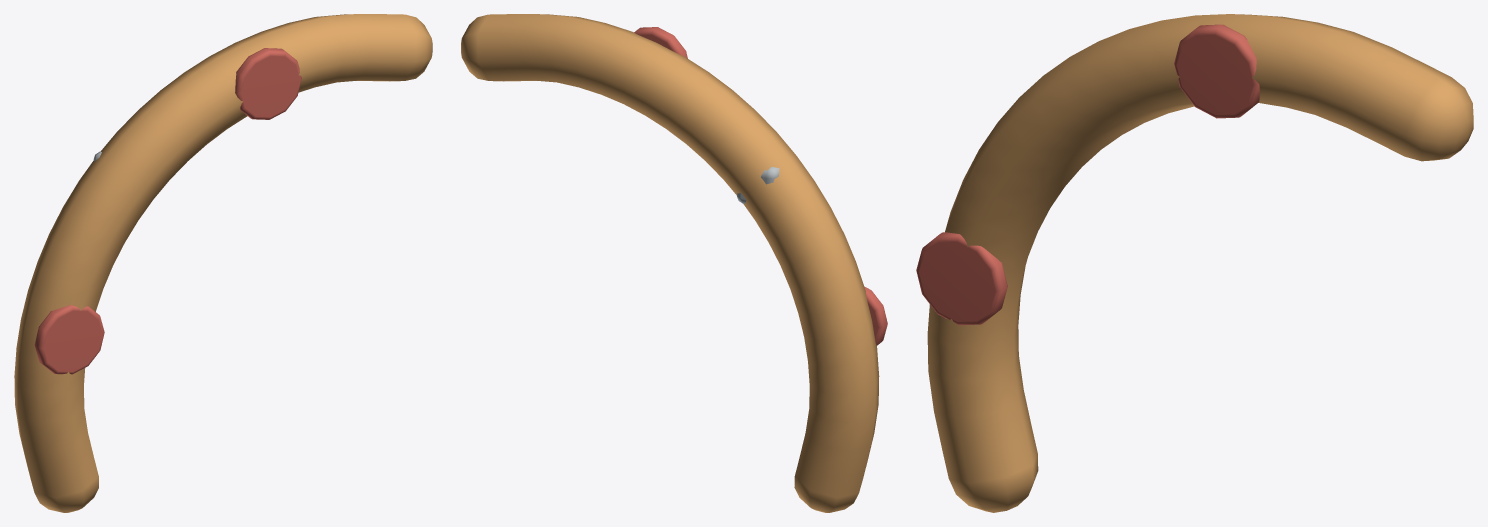
Rendered from wall_boomerang.glb.
3 renders of one model, left to right at view 1: azimuth 30°, elevation 25°; view 2: azimuth 150°, elevation 25°; view 3: azimuth 330°, elevation 25°, orthographic. The views are drawn at different scales.
Parts seen in each view (by area): view 1: wall_boomerang_mesh; view 2: wall_boomerang_mesh; view 3: wall_boomerang_mesh.
Part boxes in pixels (left/top/right/bottom): wall_boomerang_mesh: left=14, top=14, right=432, bottom=512; wall_boomerang_mesh: left=461, top=14, right=887, bottom=512; wall_boomerang_mesh: left=916, top=14, right=1473, bottom=512.
Size of the model in its own units: 0.395 by 0.395 by 0.06.
